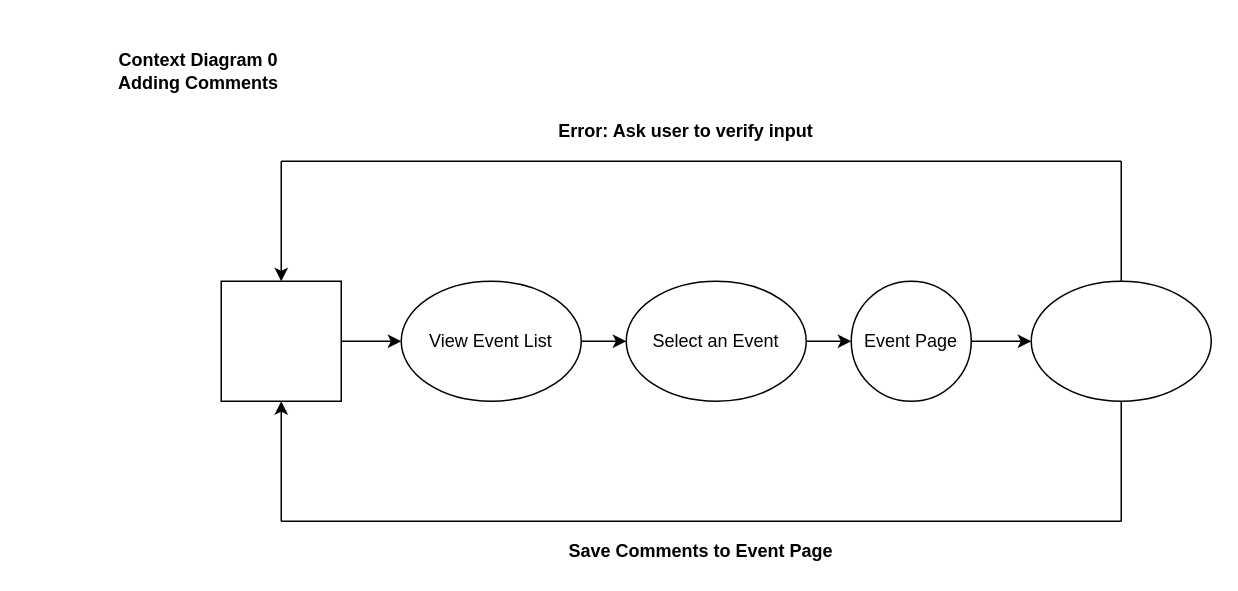
Some shapes in this 1238 by 591 pixel diagram are drawn without their labels. The shapes that lost their labels are listed below. From the top down, each one's box as (x1, y1, x2, y2) in pixels, then its label:
(220, 280, 341, 401): User
(1030, 280, 1211, 401): Add Comments
